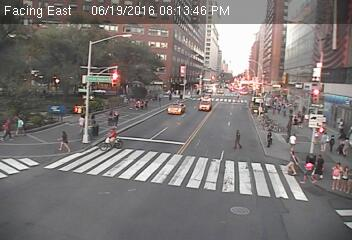neg: (102, 127, 122, 154), (33, 186, 51, 210), (178, 144, 194, 166), (191, 186, 207, 207), (239, 188, 255, 209), (68, 16, 84, 36), (85, 53, 100, 72), (150, 142, 164, 161), (125, 175, 139, 194), (83, 188, 97, 207), (218, 156, 232, 174), (281, 195, 294, 212), (162, 13, 175, 29), (289, 59, 301, 75), (250, 10, 262, 26), (134, 202, 146, 218), (56, 166, 68, 181), (116, 16, 127, 32), (118, 58, 128, 73), (221, 9, 231, 22), (187, 17, 196, 29), (146, 56, 155, 68), (195, 124, 203, 136), (183, 47, 191, 58), (24, 44, 32, 54), (199, 101, 206, 110), (219, 108, 224, 115), (240, 110, 244, 115)
pos: (324, 160, 347, 190), (298, 153, 318, 179), (281, 148, 300, 173), (54, 128, 71, 151), (12, 114, 29, 137), (230, 127, 247, 149), (261, 127, 277, 149), (285, 129, 301, 151), (313, 154, 329, 176), (75, 112, 90, 132), (316, 130, 330, 148), (326, 132, 340, 150), (88, 112, 99, 126), (293, 115, 302, 127), (167, 92, 174, 102)
